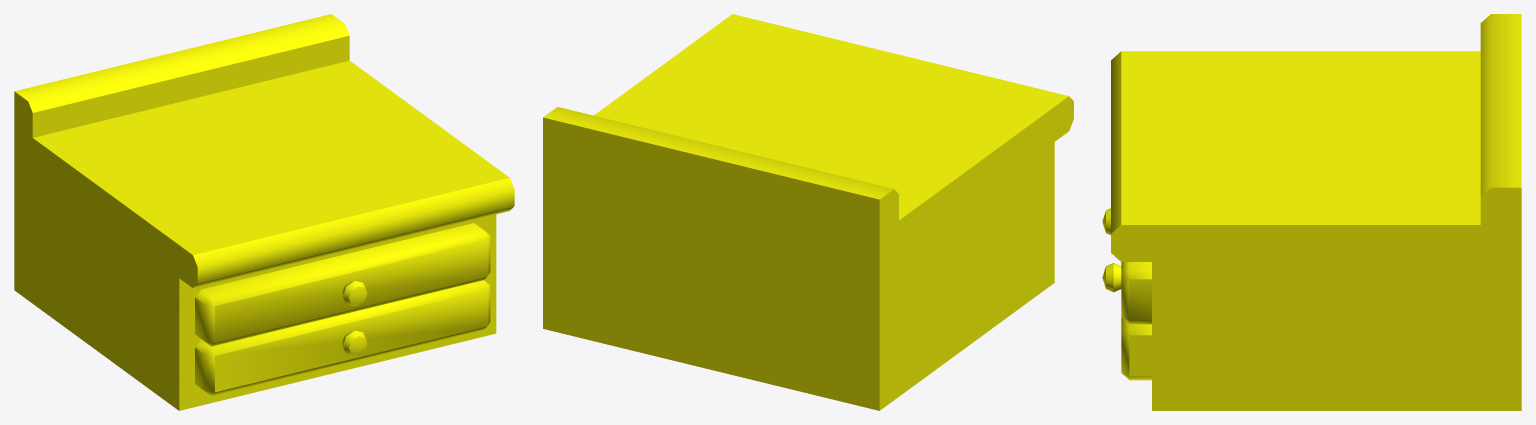
File: kaykit-kitchencounter-straight-a-backsplash.glb
3 renders of one model, left to right at view 1: azimuth 30°, elevation 25°; view 2: azimuth 150°, elevation 25°; view 3: azimuth 270°, elevation 25°, orthographic. The views are drawn at different scales.
Visible parts, largest first — view 1: kitchencounter_straight_A_backsplash; view 2: kitchencounter_straight_A_backsplash; view 3: kitchencounter_straight_A_backsplash.
Part boxes in pixels (bbox=[...]): kitchencounter_straight_A_backsplash: bbox=[14, 14, 514, 410]; kitchencounter_straight_A_backsplash: bbox=[543, 14, 1073, 410]; kitchencounter_straight_A_backsplash: bbox=[1102, 14, 1521, 410].
Bounding box in the file's own units: 2 × 1.2 × 2.04.
